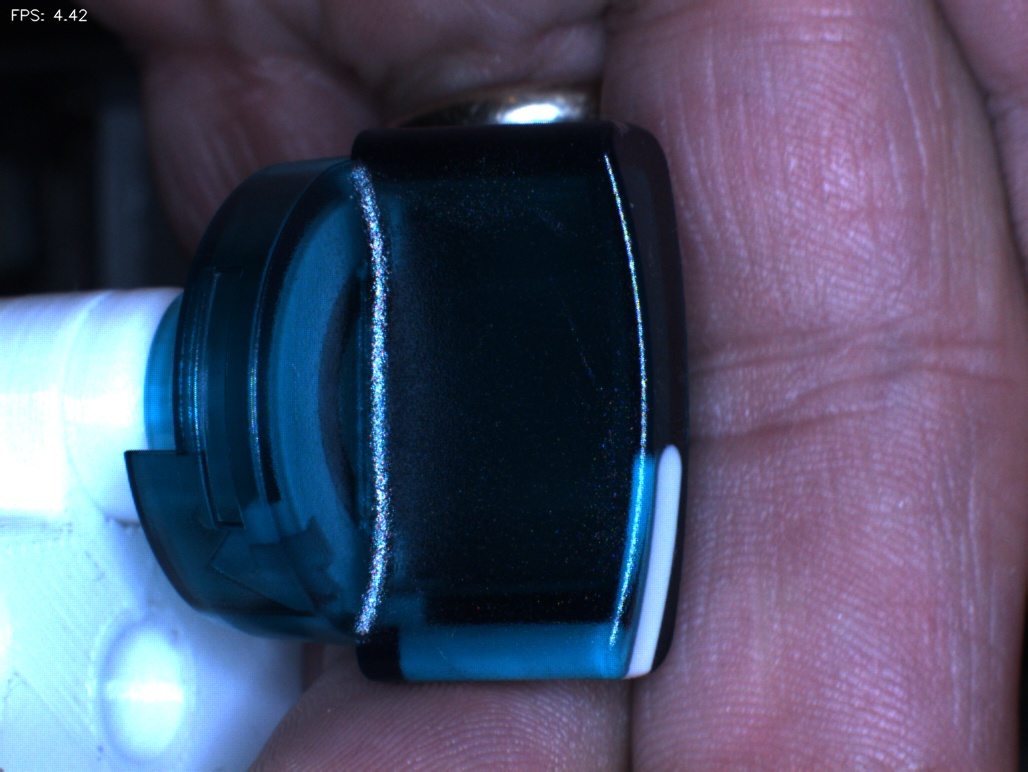Givrage: (540, 276, 621, 413)
